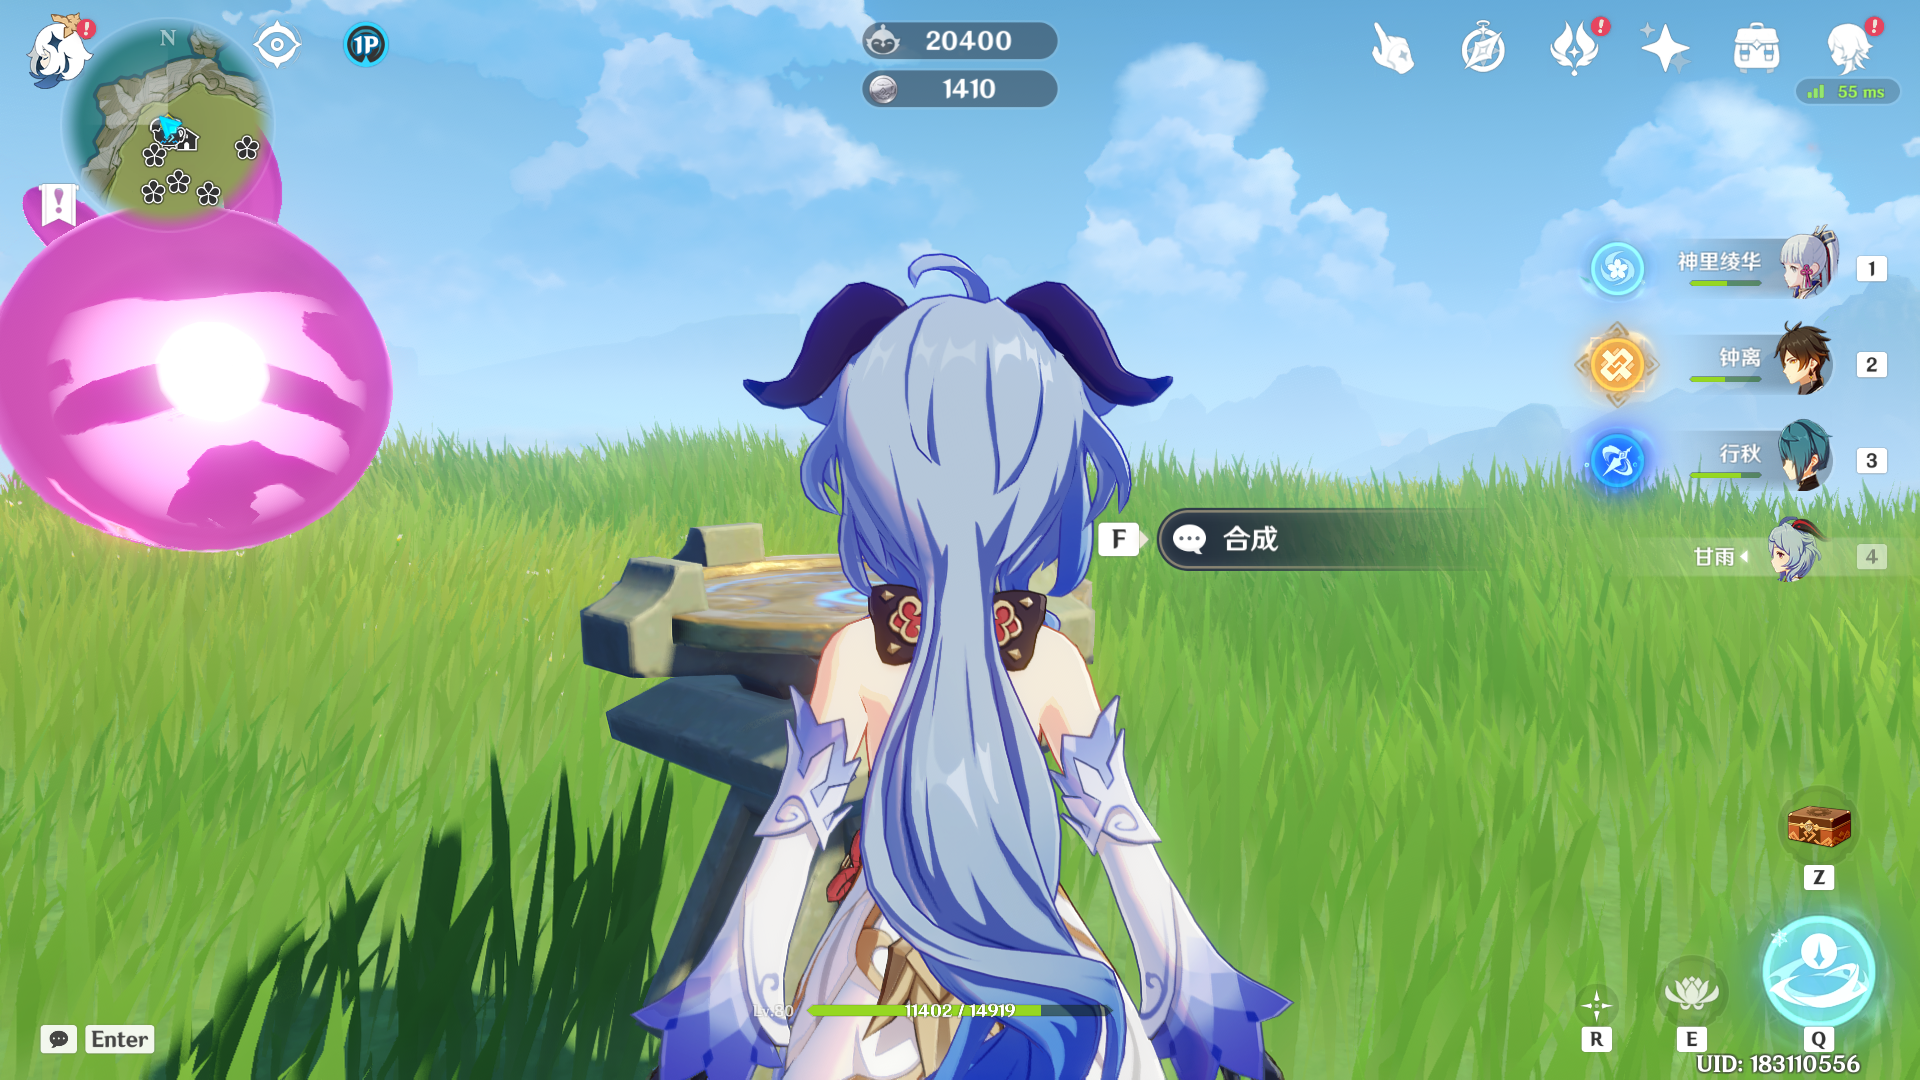character: (562, 193, 1333, 1080)
